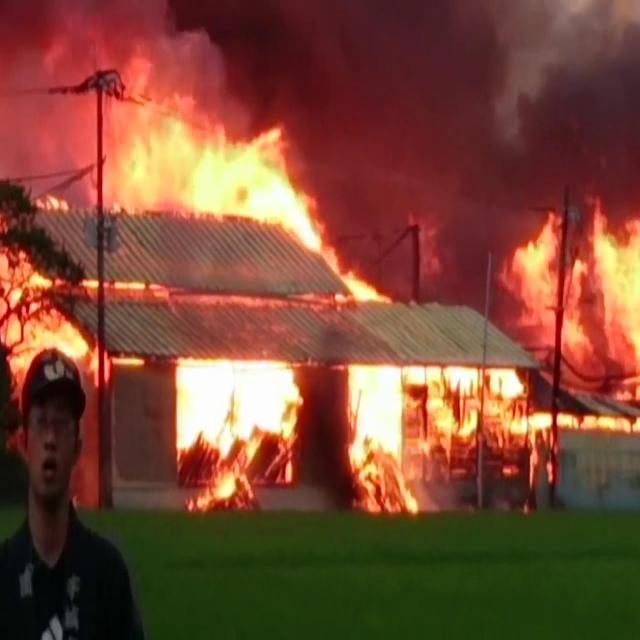Fire: (41, 44, 322, 254), (510, 191, 639, 432), (348, 362, 539, 517), (177, 353, 303, 518), (0, 250, 143, 386), (344, 270, 390, 305), (36, 192, 72, 212)
